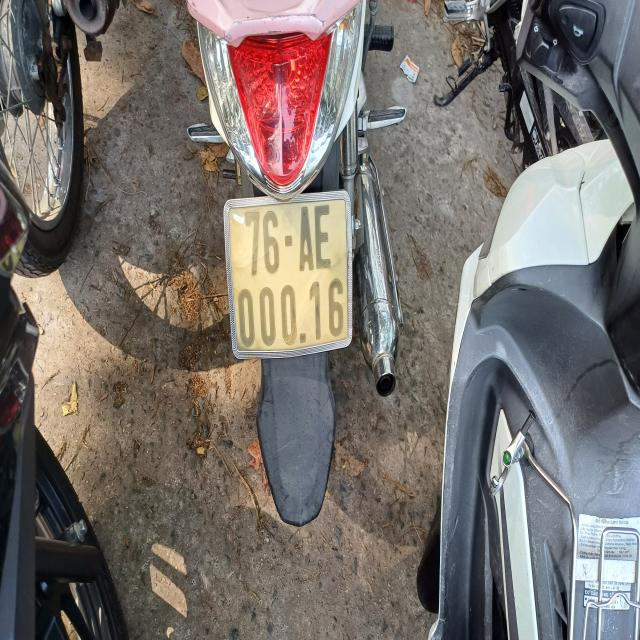0: (258, 280, 277, 348), (282, 282, 300, 346), (236, 290, 254, 348)
1: (309, 284, 324, 338)
6: (262, 211, 284, 273), (328, 275, 347, 337)
7: (238, 207, 262, 280)
A: (293, 209, 317, 273)
E: (314, 200, 334, 270)
